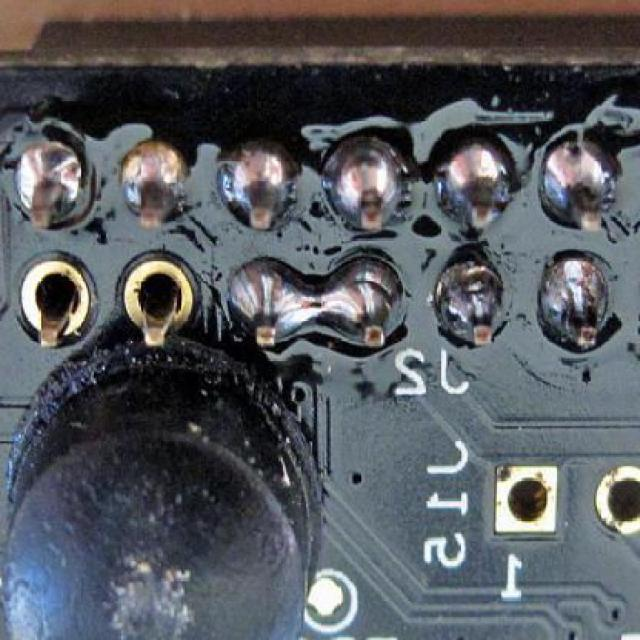Soldering shorted: (226, 254, 409, 358)
